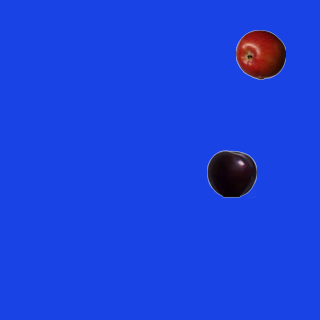Apple Braeburn: (235, 29, 285, 79)
Cherry Wax Black: (206, 148, 256, 198)
